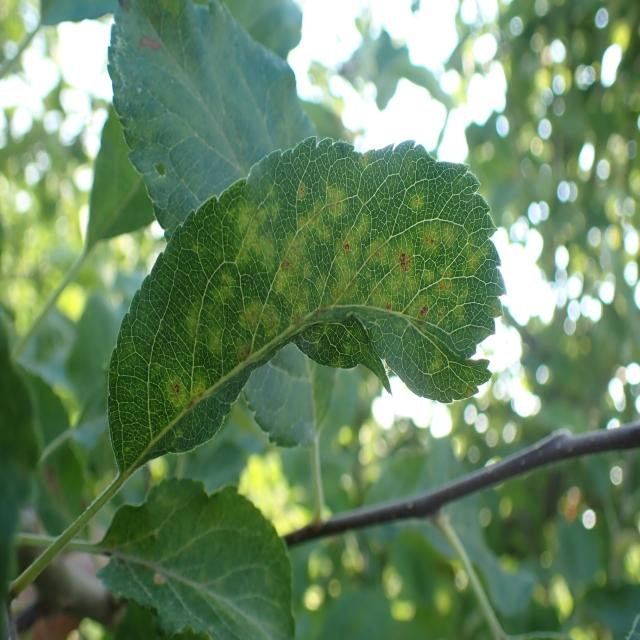scab: (133, 189, 494, 471)
